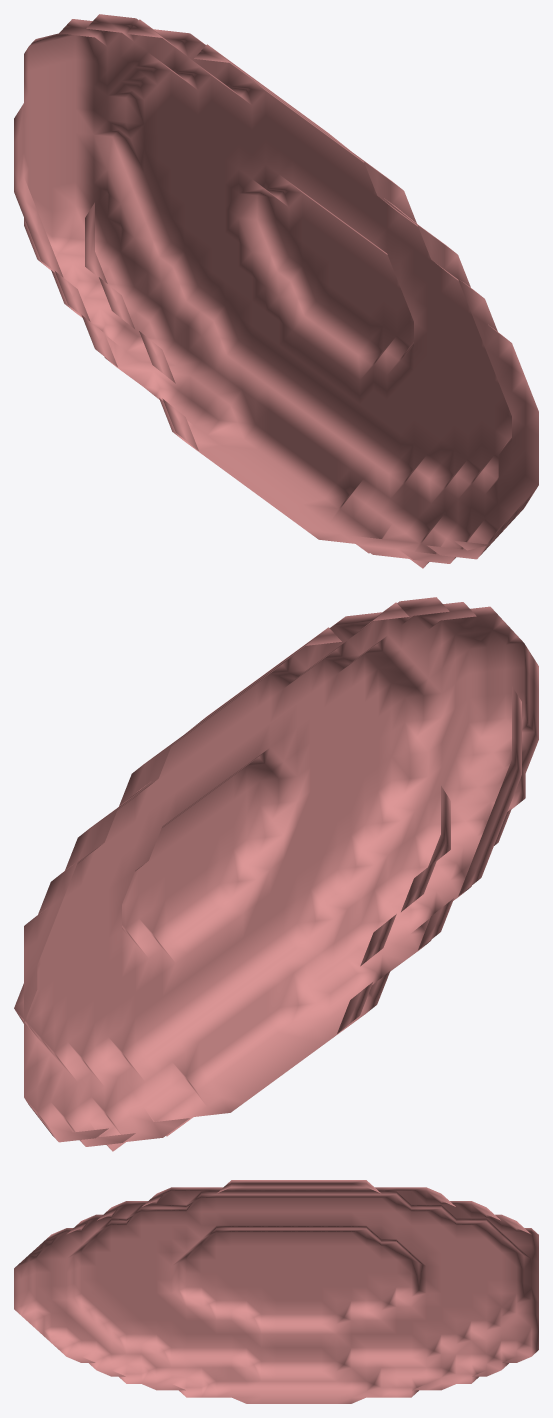
File: 199547_occ.glb
The picture shows the model from 3 angles, top to bottom: view 1: azimuth 30°, elevation 25°; view 2: azimuth 150°, elevation 25°; view 3: azimuth 270°, elevation 25°; orthographic projection. The views are drawn at different scales.
Visible parts, largest first — view 1: world; view 2: world; view 3: world.
Part boxes in pixels (x1,y1,x2,y2): world: (14,14,538,568); world: (14,597,538,1151); world: (14,1180,538,1403).
Size of the model in its own units: 0.7 by 1.6 by 3.5.
